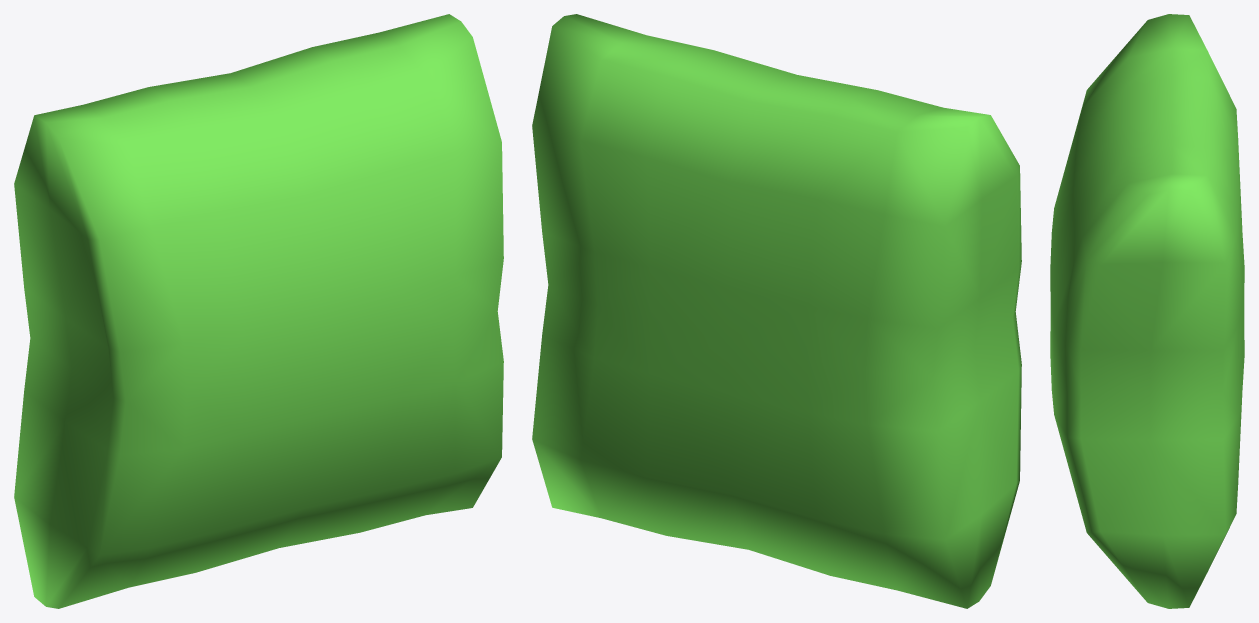
The model's file is Pillow_b.fbx.
3 renders of one model, left to right at view 1: azimuth 30°, elevation 25°; view 2: azimuth 150°, elevation 25°; view 3: azimuth 270°, elevation 25°, orthographic. The views are drawn at different scales.
Parts seen in each view (by area): view 1: Cube; view 2: Cube; view 3: Cube.
Part boxes in pixels (x1,y1,x2,y2): Cube: [14, 14, 503, 608]; Cube: [532, 14, 1021, 608]; Cube: [1050, 14, 1244, 608].
Size of the model in its own units: 39.91 by 44.46 by 18.66.
